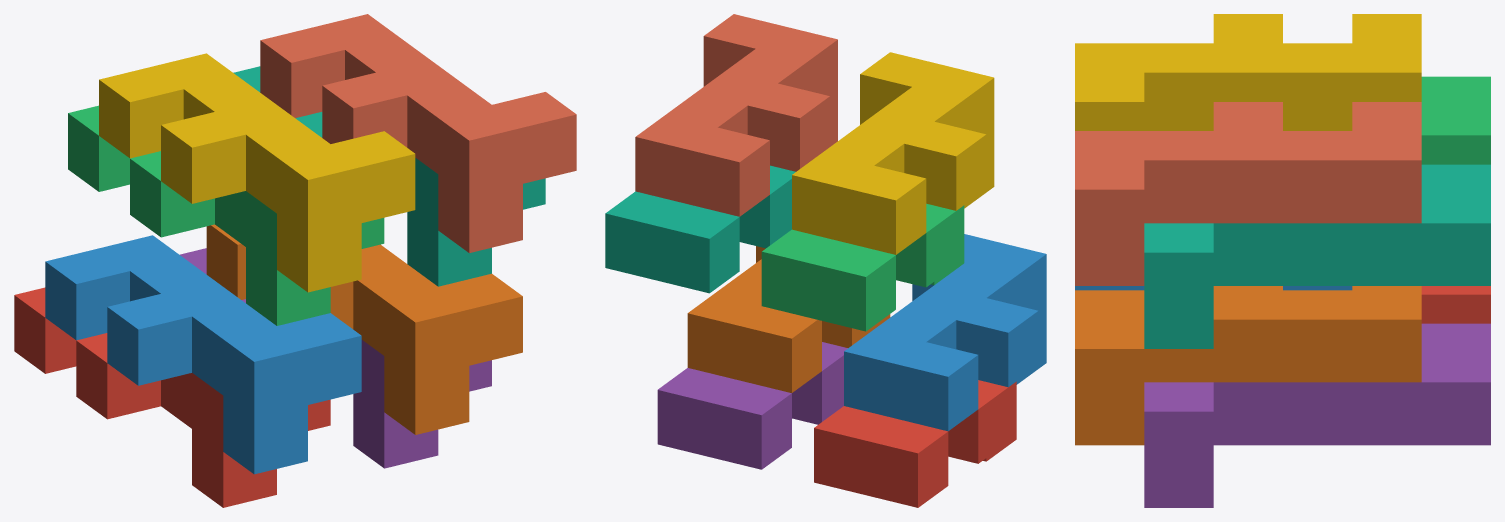
File: tiling.obj
The picture shows the model from 3 angles, left to right: view 1: azimuth 30°, elevation 25°; view 2: azimuth 150°, elevation 25°; view 3: azimuth 270°, elevation 25°; orthographic projection. The views are drawn at different scales.
Visible parts, largest first — view 1: copy_1_domain_2, copy_1_domain_4, copy_1_domain_8, copy_1_domain_6, copy_1_domain_1, copy_1_domain_3, copy_1_domain_7, copy_1_domain_5; view 2: copy_1_domain_4, copy_1_domain_8, copy_1_domain_2, copy_1_domain_3, copy_1_domain_1, copy_1_domain_7, copy_1_domain_5, copy_1_domain_6; view 3: copy_1_domain_8, copy_1_domain_6, copy_1_domain_5, copy_1_domain_4, copy_1_domain_7, copy_1_domain_3, copy_1_domain_1, copy_1_domain_2.
Part boxes in pixels (x1,y1,x2,y2): copy_1_domain_2: (45,235,361,474); copy_1_domain_4: (99,53,415,292); copy_1_domain_8: (260,14,576,252); copy_1_domain_6: (206,224,522,434); copy_1_domain_1: (14,287,330,507); copy_1_domain_3: (68,105,384,325); copy_1_domain_7: (233,66,545,286); copy_1_domain_5: (180,248,491,468); copy_1_domain_4: (792,52,994,254); copy_1_domain_8: (635,14,837,216); copy_1_domain_2: (844,234,1046,431); copy_1_domain_3: (761,203,964,331); copy_1_domain_1: (814,380,1016,507); copy_1_domain_7: (605,165,795,293); copy_1_domain_5: (657,342,847,469); copy_1_domain_6: (687,246,890,392); copy_1_domain_8: (1075,102,1421,285); copy_1_domain_6: (1075,286,1421,445); copy_1_domain_5: (1144,323,1490,507); copy_1_domain_4: (1075,14,1421,130); copy_1_domain_7: (1144,164,1490,348); copy_1_domain_3: (1421,76,1490,164); copy_1_domain_1: (1421,286,1490,323); copy_1_domain_2: (1075,286,1352,290).
Size of the model in its own units: 7 by 6 by 6.
